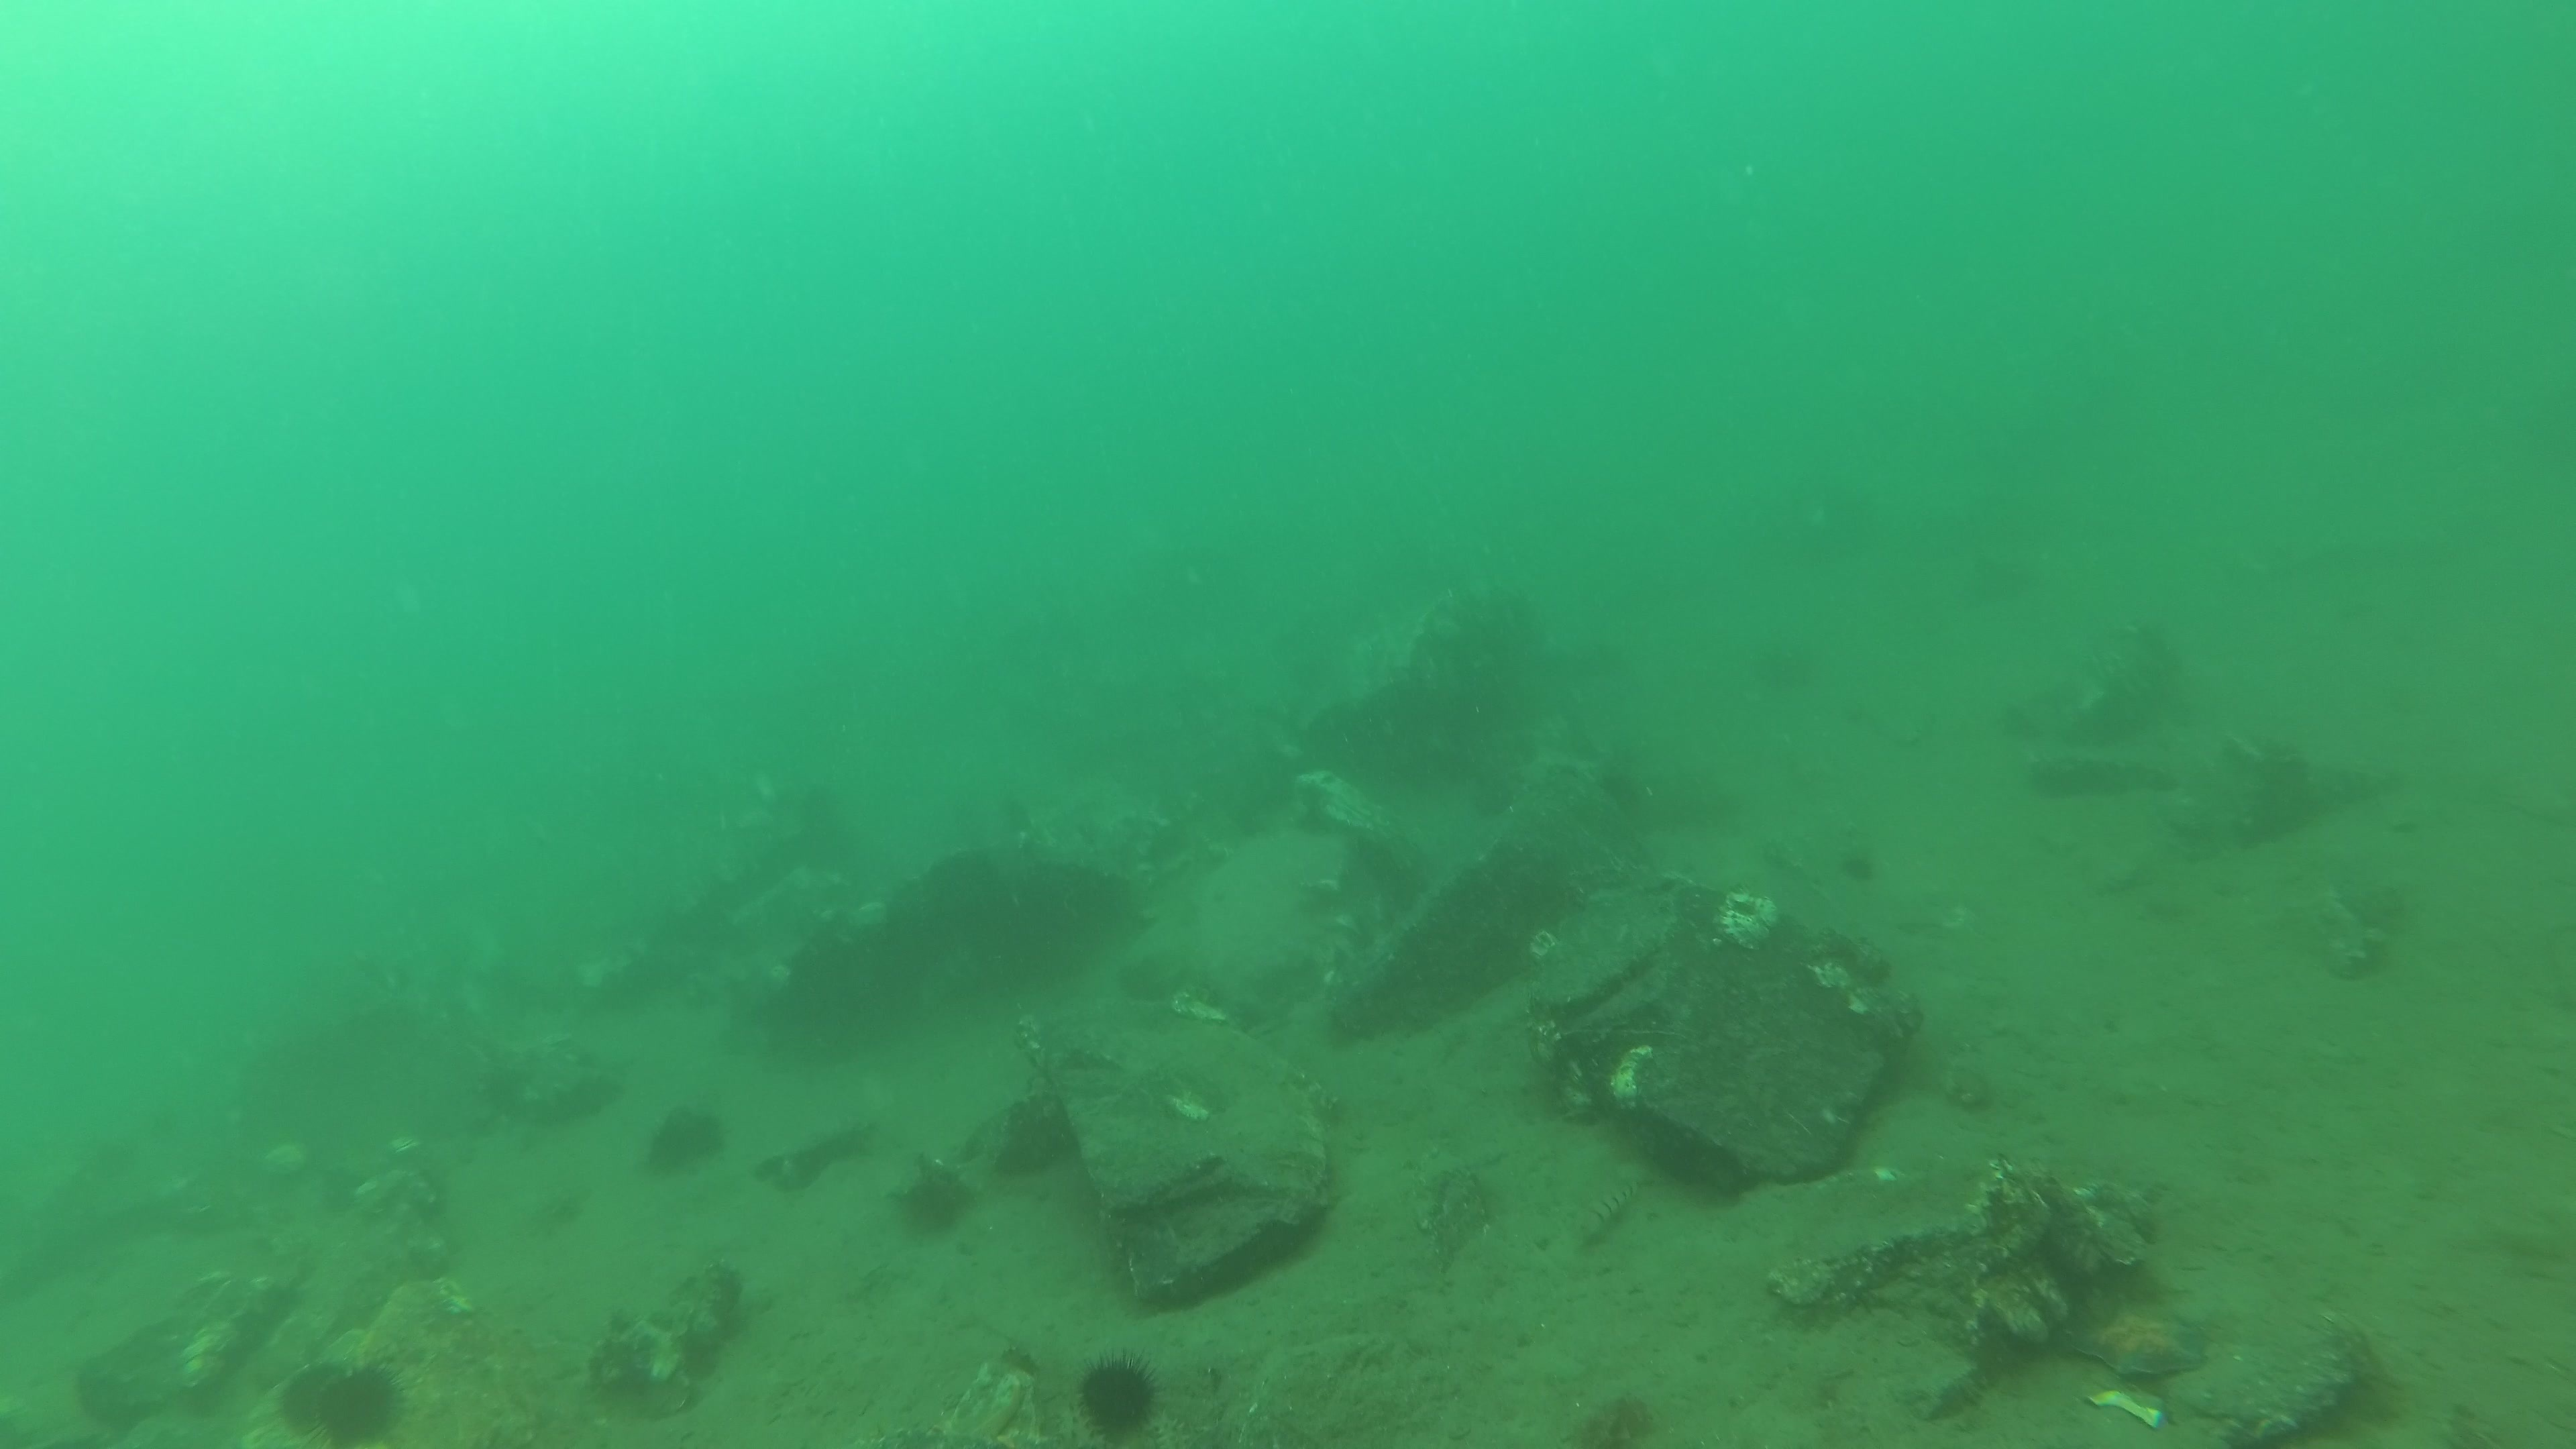echinus: (317, 1362, 409, 1444), (1079, 1353, 1162, 1440), (902, 1171, 968, 1240), (644, 1104, 709, 1173), (272, 1368, 317, 1442)
